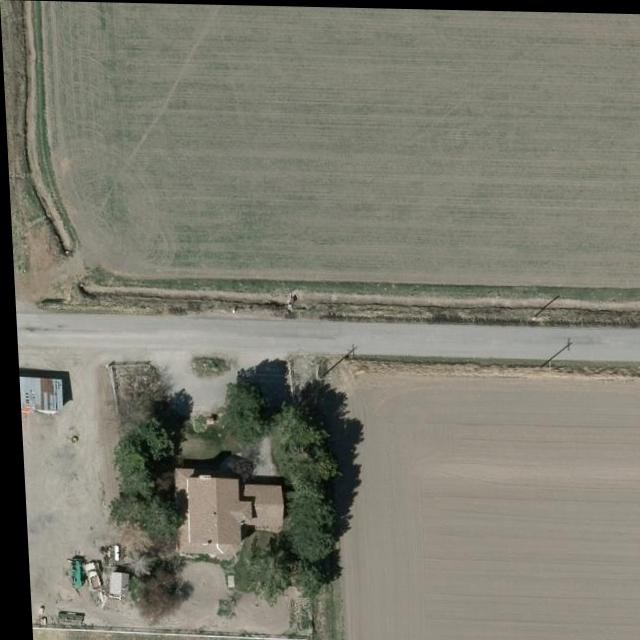vehicle: (78, 560, 100, 594)
